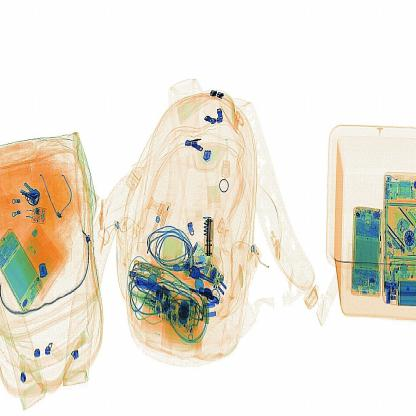scissors: (204, 216, 218, 261)
